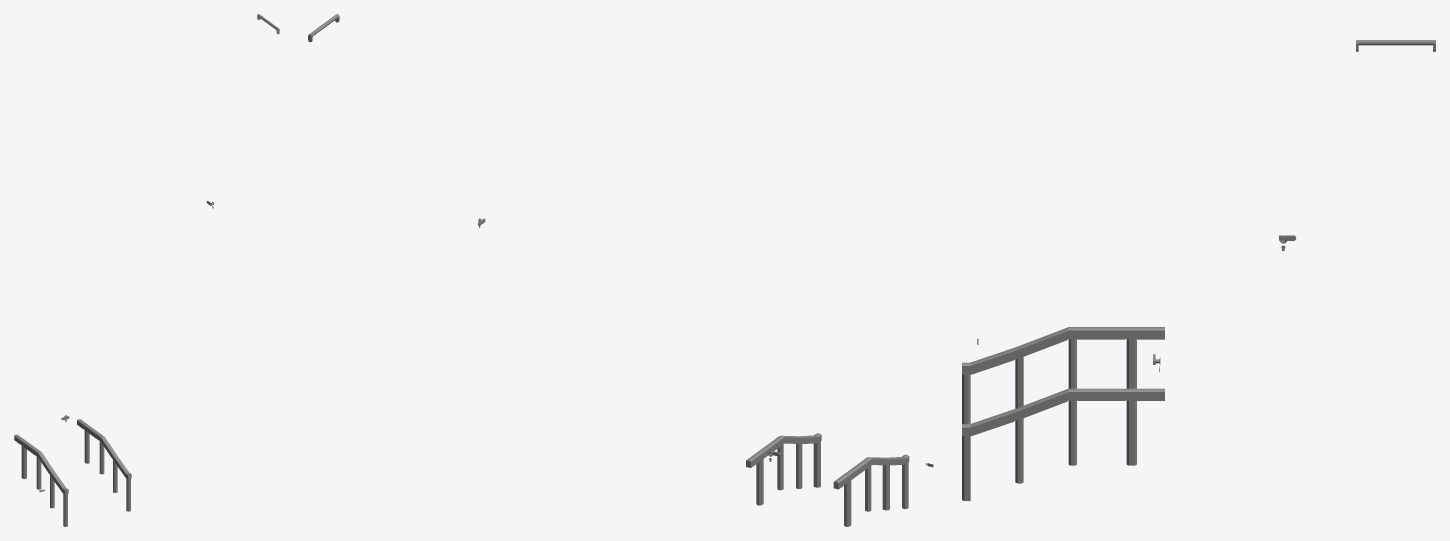
File: buildig.002_metal_(matte)_0_lev3.glb
The picture shows the model from 3 angles, left to right: view 1: azimuth 30°, elevation 25°; view 2: azimuth 150°, elevation 25°; view 3: azimuth 270°, elevation 25°; orthographic projection. The views are drawn at different scales.
Visible parts, largest first — view 1: buildig.002_metal_(matte)_0_lev3; view 2: buildig.002_metal_(matte)_0_lev3; view 3: buildig.002_metal_(matte)_0_lev3.
Part boxes in pixels (x1=…): buildig.002_metal_(matte)_0_lev3: x1=14, y1=14, x2=279, y2=526; buildig.002_metal_(matte)_0_lev3: x1=308, y1=14, x2=933, y2=526; buildig.002_metal_(matte)_0_lev3: x1=962, y1=40, x2=1435, y2=500.
Size of the model in its own units: 2.44 by 2.44 by 1.5.
Materials: 1 (1 with a texture image).
